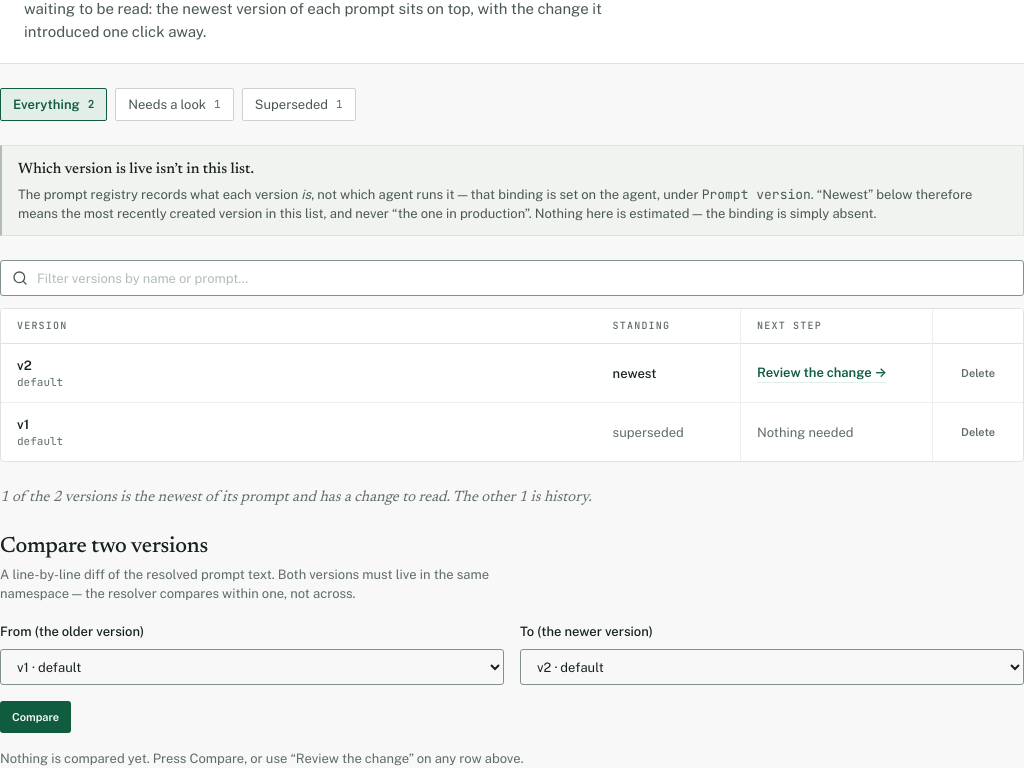
Scenario: PromptsPage › 501 → calm 'not configured' state — no error toast, no fabricated diff
(page scrolled)
Expected: the element with test id "prompt-version-v1" is shown, [17,417,63,448]
Select "v1 · default" in the dropdown with test id "diff-from-input". click: [252, 667]
box: [0,649,504,685]
Select "v2 · default" in the dropdown with test id "diff-to-input". click: [772, 667]
box: [520,649,1023,685]
Click the button with test id "diff-compare-btn". click: [36, 717]
box: [0,701,71,733]
(page scrolled)
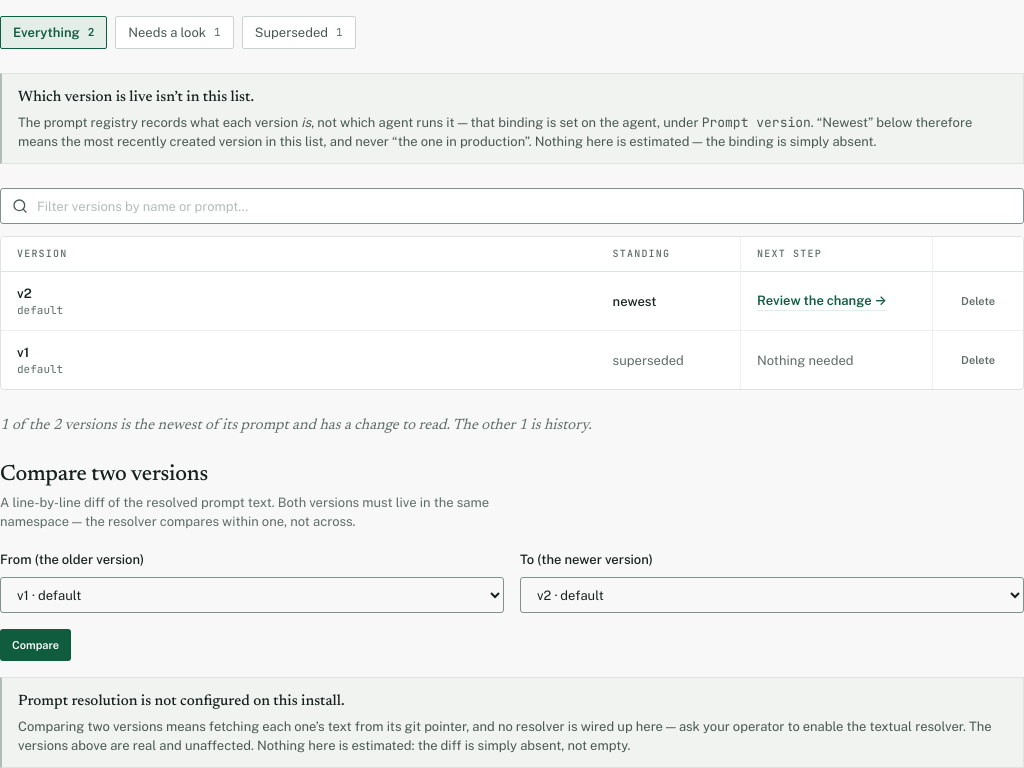
Now the element with test id "prompt-diff-not-configured" is shown, box [0,677,1023,767]
Now the text "Prompt resolution is not configured on this install." is shown, box [18,694,345,709]
